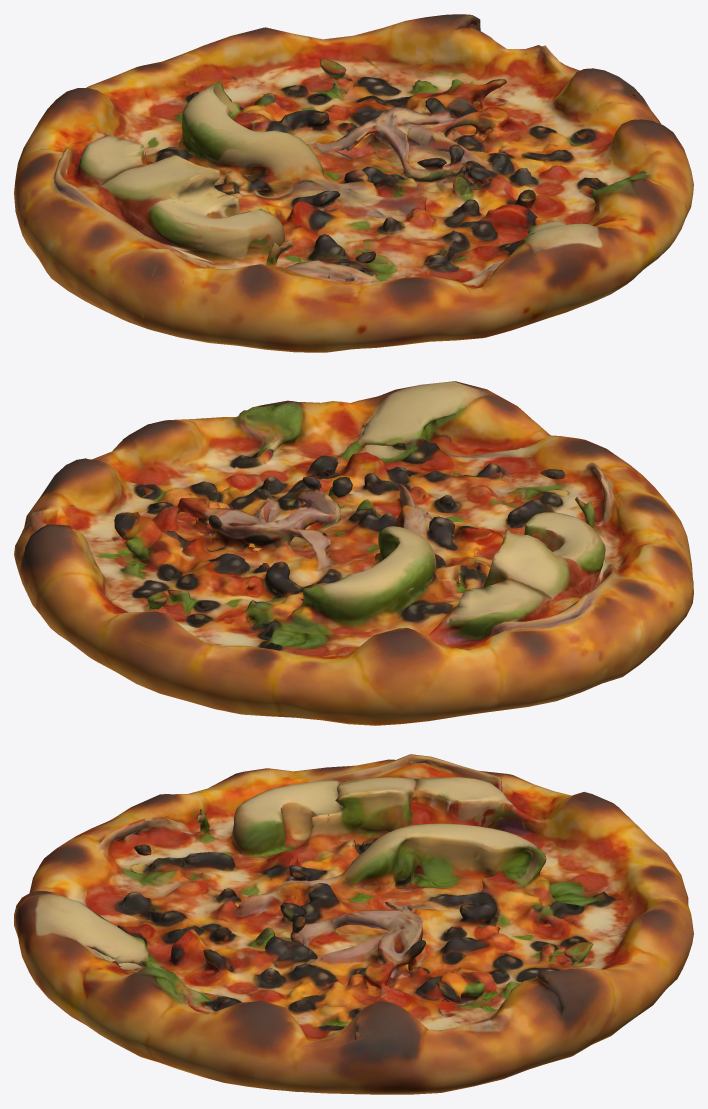
The model's file is California_Pizza.glb.
The picture shows the model from 3 angles, top to bottom: view 1: azimuth 30°, elevation 25°; view 2: azimuth 150°, elevation 25°; view 3: azimuth 270°, elevation 25°; orthographic projection.
Size of the model in its own units: 1.99 by 0.3279 by 1.97.
1 material, 1 textured.
